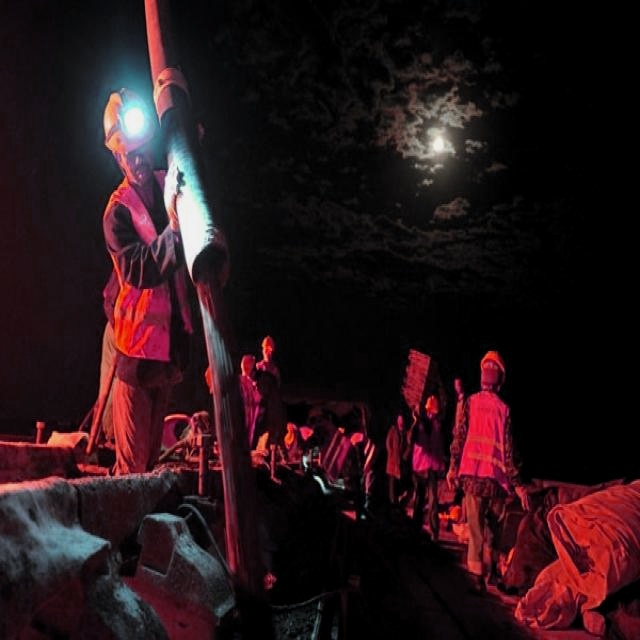Con_Casco: (101, 88, 156, 180)
Con_Chaleco: (458, 390, 506, 474)
